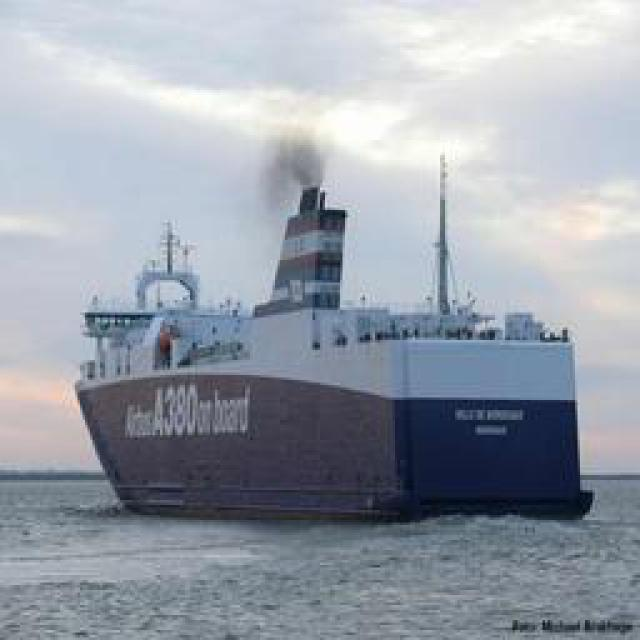Ship: (70, 155, 590, 518)
